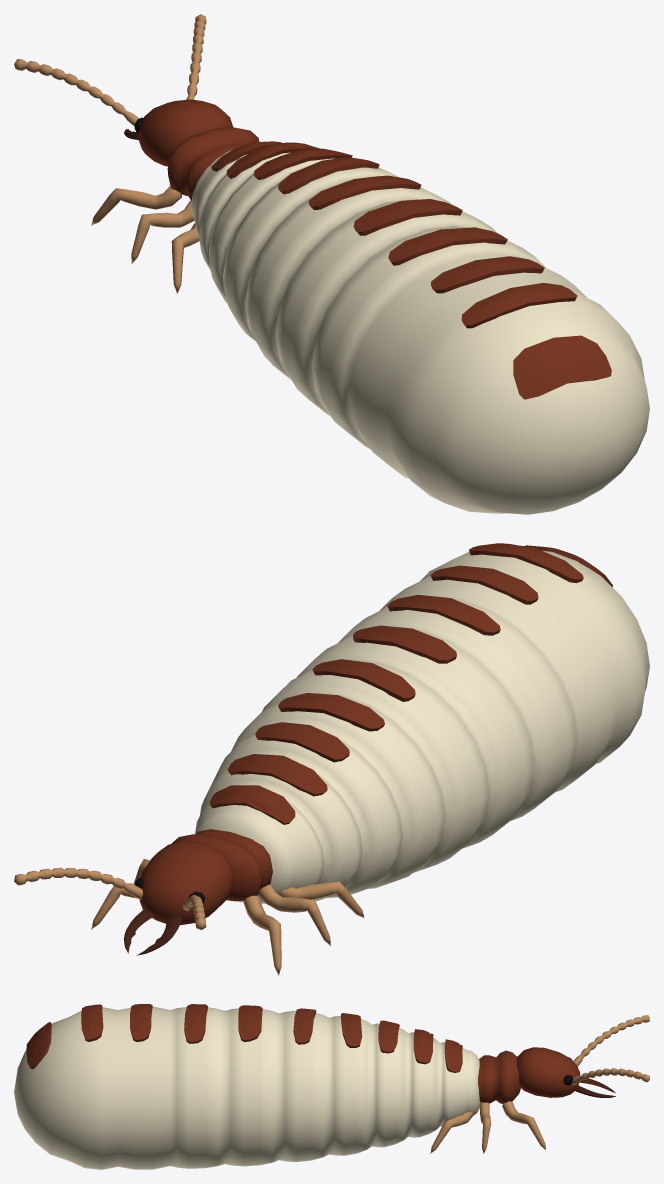
Rendered from termite_queen.obj.
3 views of the same model, one above another, from view 1: azimuth 30°, elevation 25°; view 2: azimuth 150°, elevation 25°; view 3: azimuth 270°, elevation 25° (orthographic). The views are drawn at different scales.
Visible parts, largest first — view 1: termite_queen; view 2: termite_queen; view 3: termite_queen.
Part boxes in pixels (x1,y1,x2,y2): termite_queen: (14,14,649,514); termite_queen: (14,543,649,975); termite_queen: (14,1004,649,1169).
Size of the model in its own units: 0.3108 by 0.2673 by 1.06.
1 material, 1 textured.
